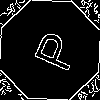P: (25, 25, 80, 74)
